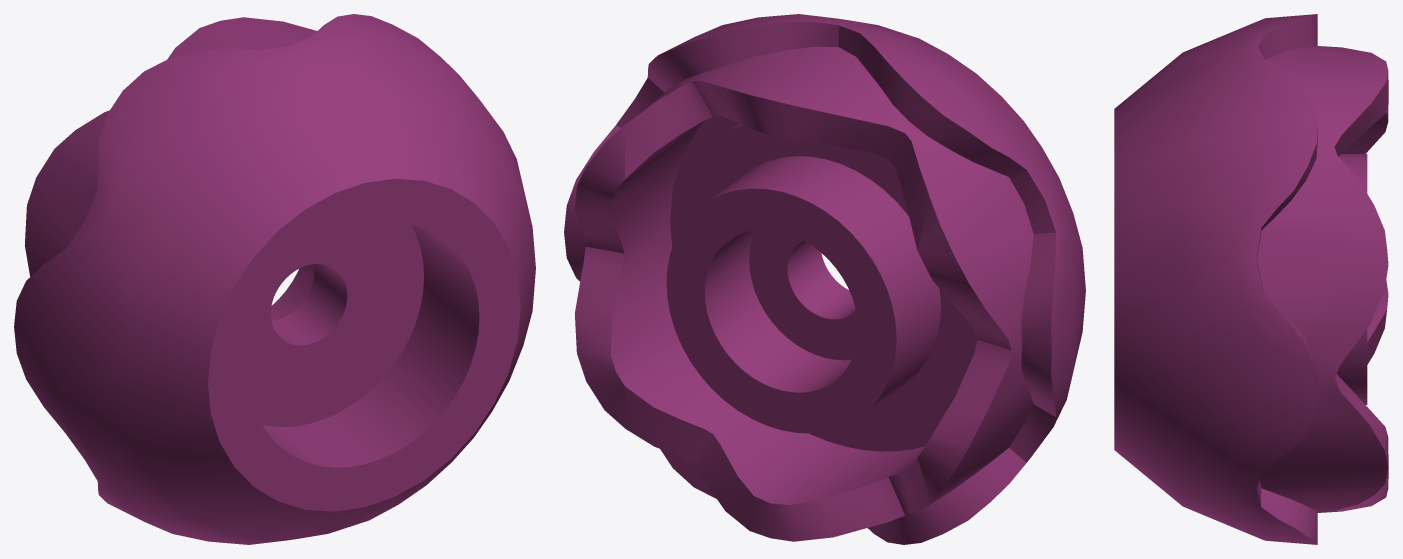
Rendered from rosa de agua.dae.
The picture shows the model from 3 angles, left to right: view 1: azimuth 30°, elevation 25°; view 2: azimuth 150°, elevation 25°; view 3: azimuth 270°, elevation 25°; orthographic projection. The views are drawn at different scales.
Visible parts, largest first — view 1: Inner-Node-UntitledModel_dot_io-0; view 2: Inner-Node-UntitledModel_dot_io-0; view 3: Inner-Node-UntitledModel_dot_io-0.
Boxes of the visible parts, x1,y1,x2,y2 form: Inner-Node-UntitledModel_dot_io-0: (14, 14, 535, 544); Inner-Node-UntitledModel_dot_io-0: (564, 14, 1085, 544); Inner-Node-UntitledModel_dot_io-0: (1114, 14, 1388, 544).
Bounding box in the file's own units: 25.18 × 24.06 × 12.88.
